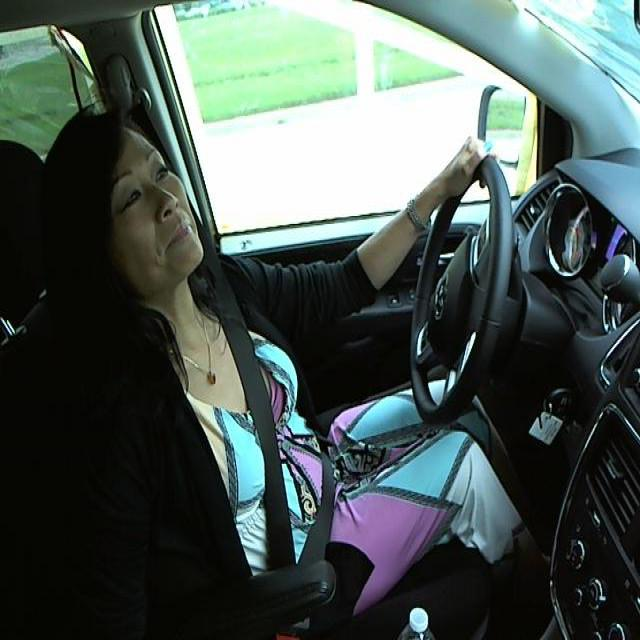seatbelt: (201, 274, 347, 566)
